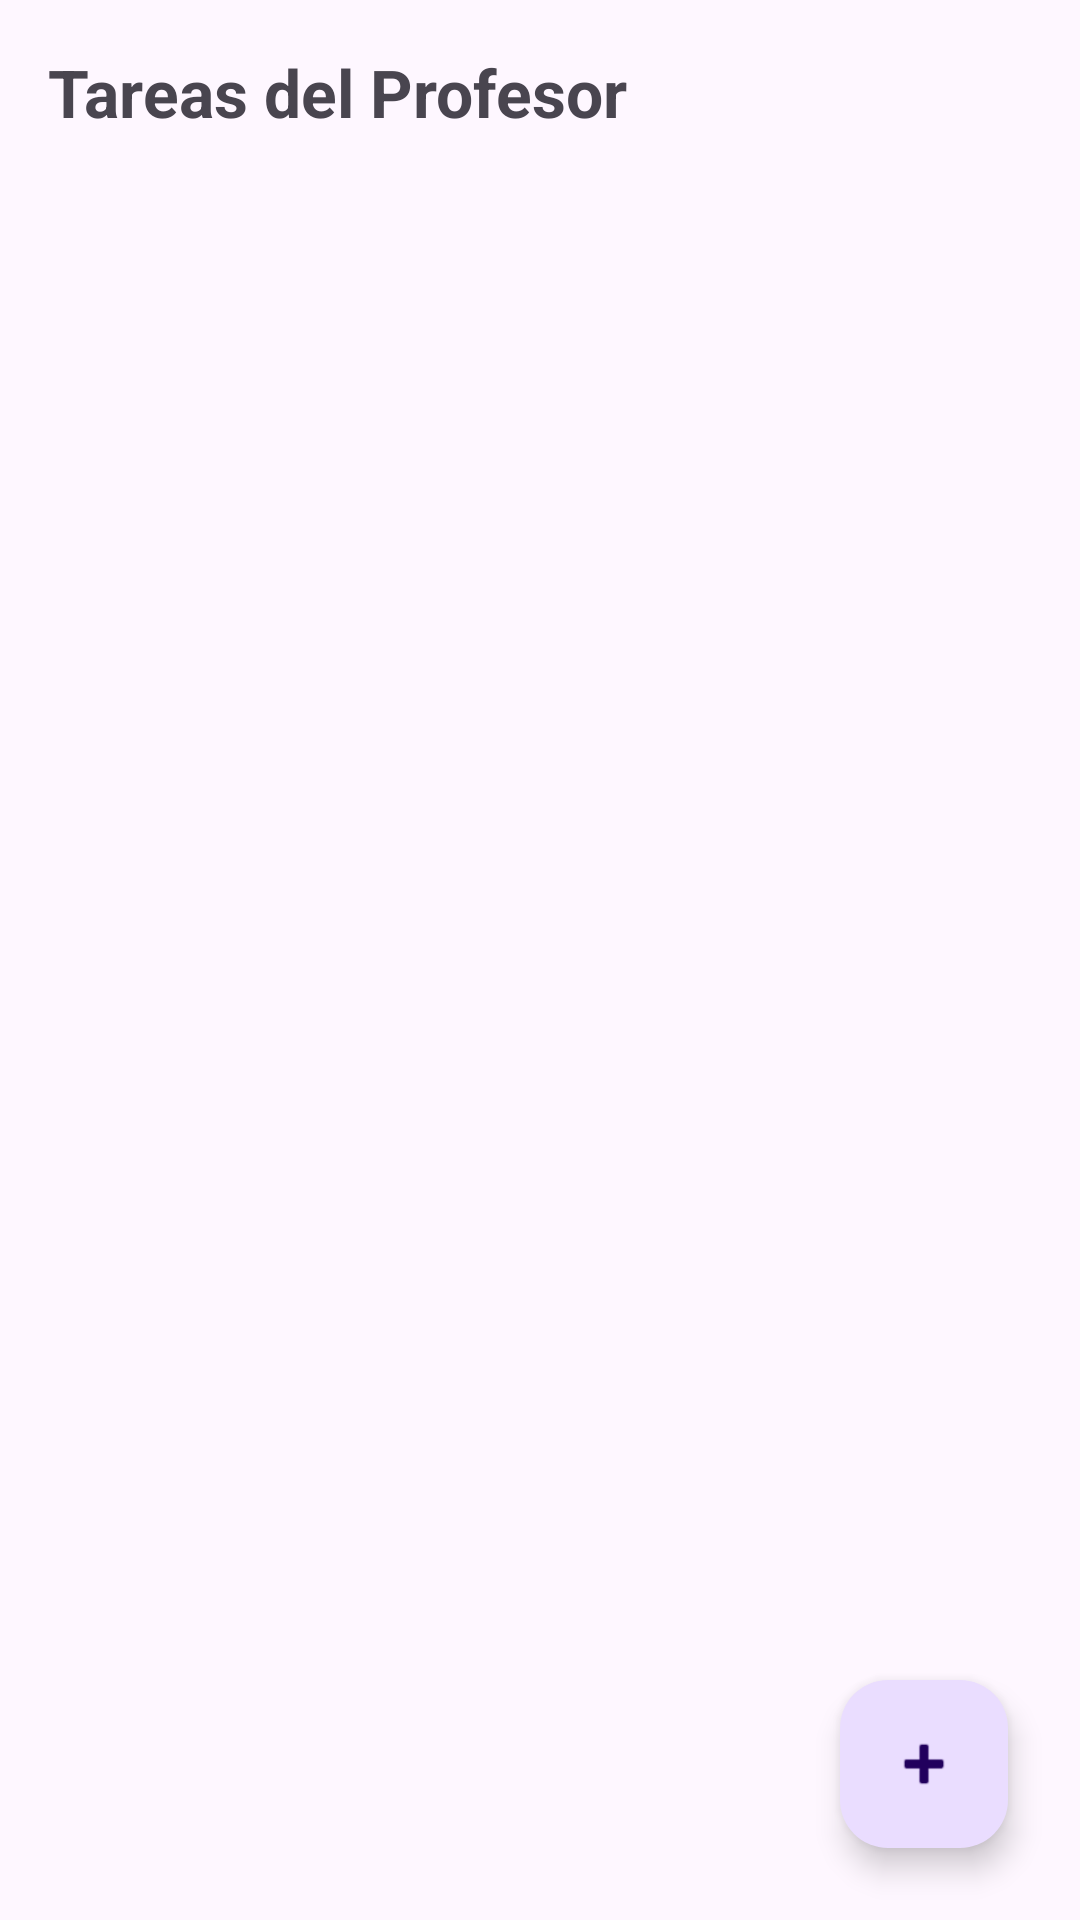

Where to tap for icons on this 1080 × 1920 app screen, as point (x, y):
Añadir tarea: point (924, 1764)
